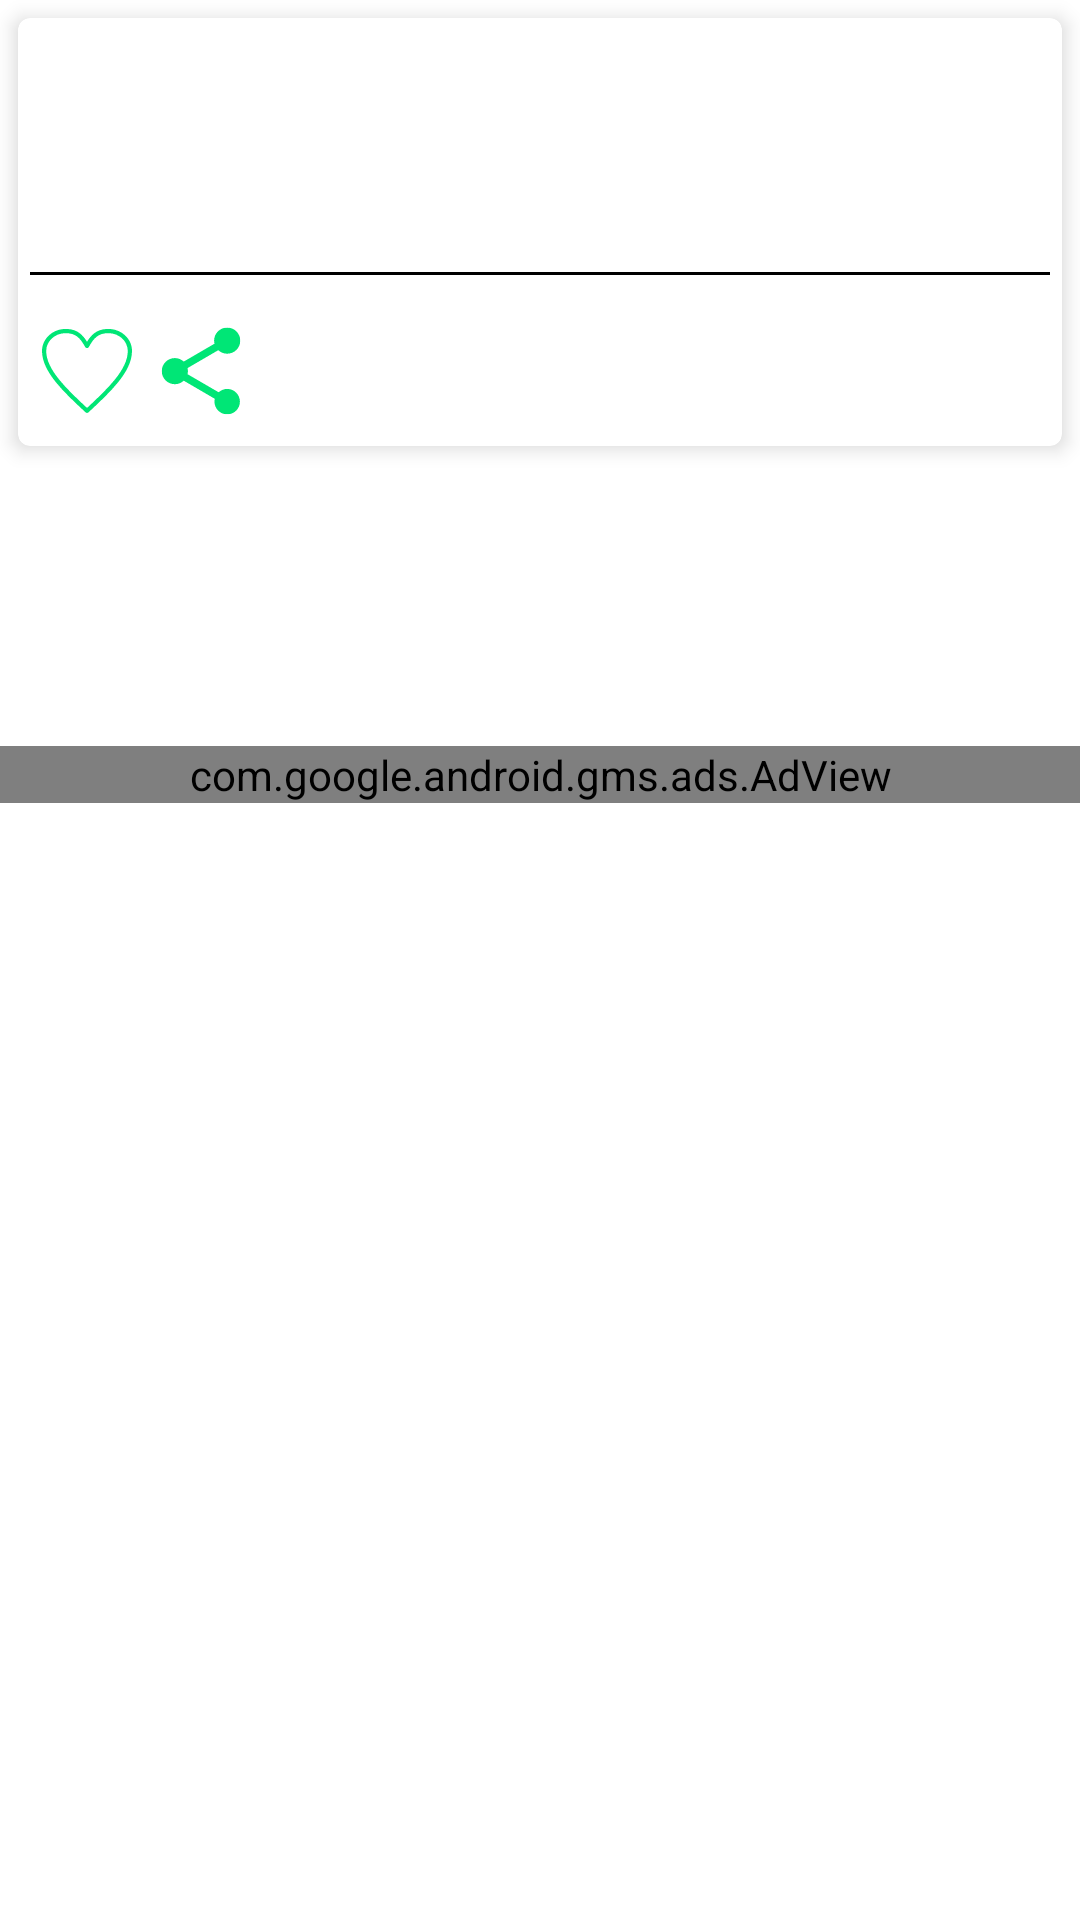

Where to tap for icons on this 1080px x 1920px app screen, as [x,y]:
share: [201,370]
unfilled like: [87,371]
